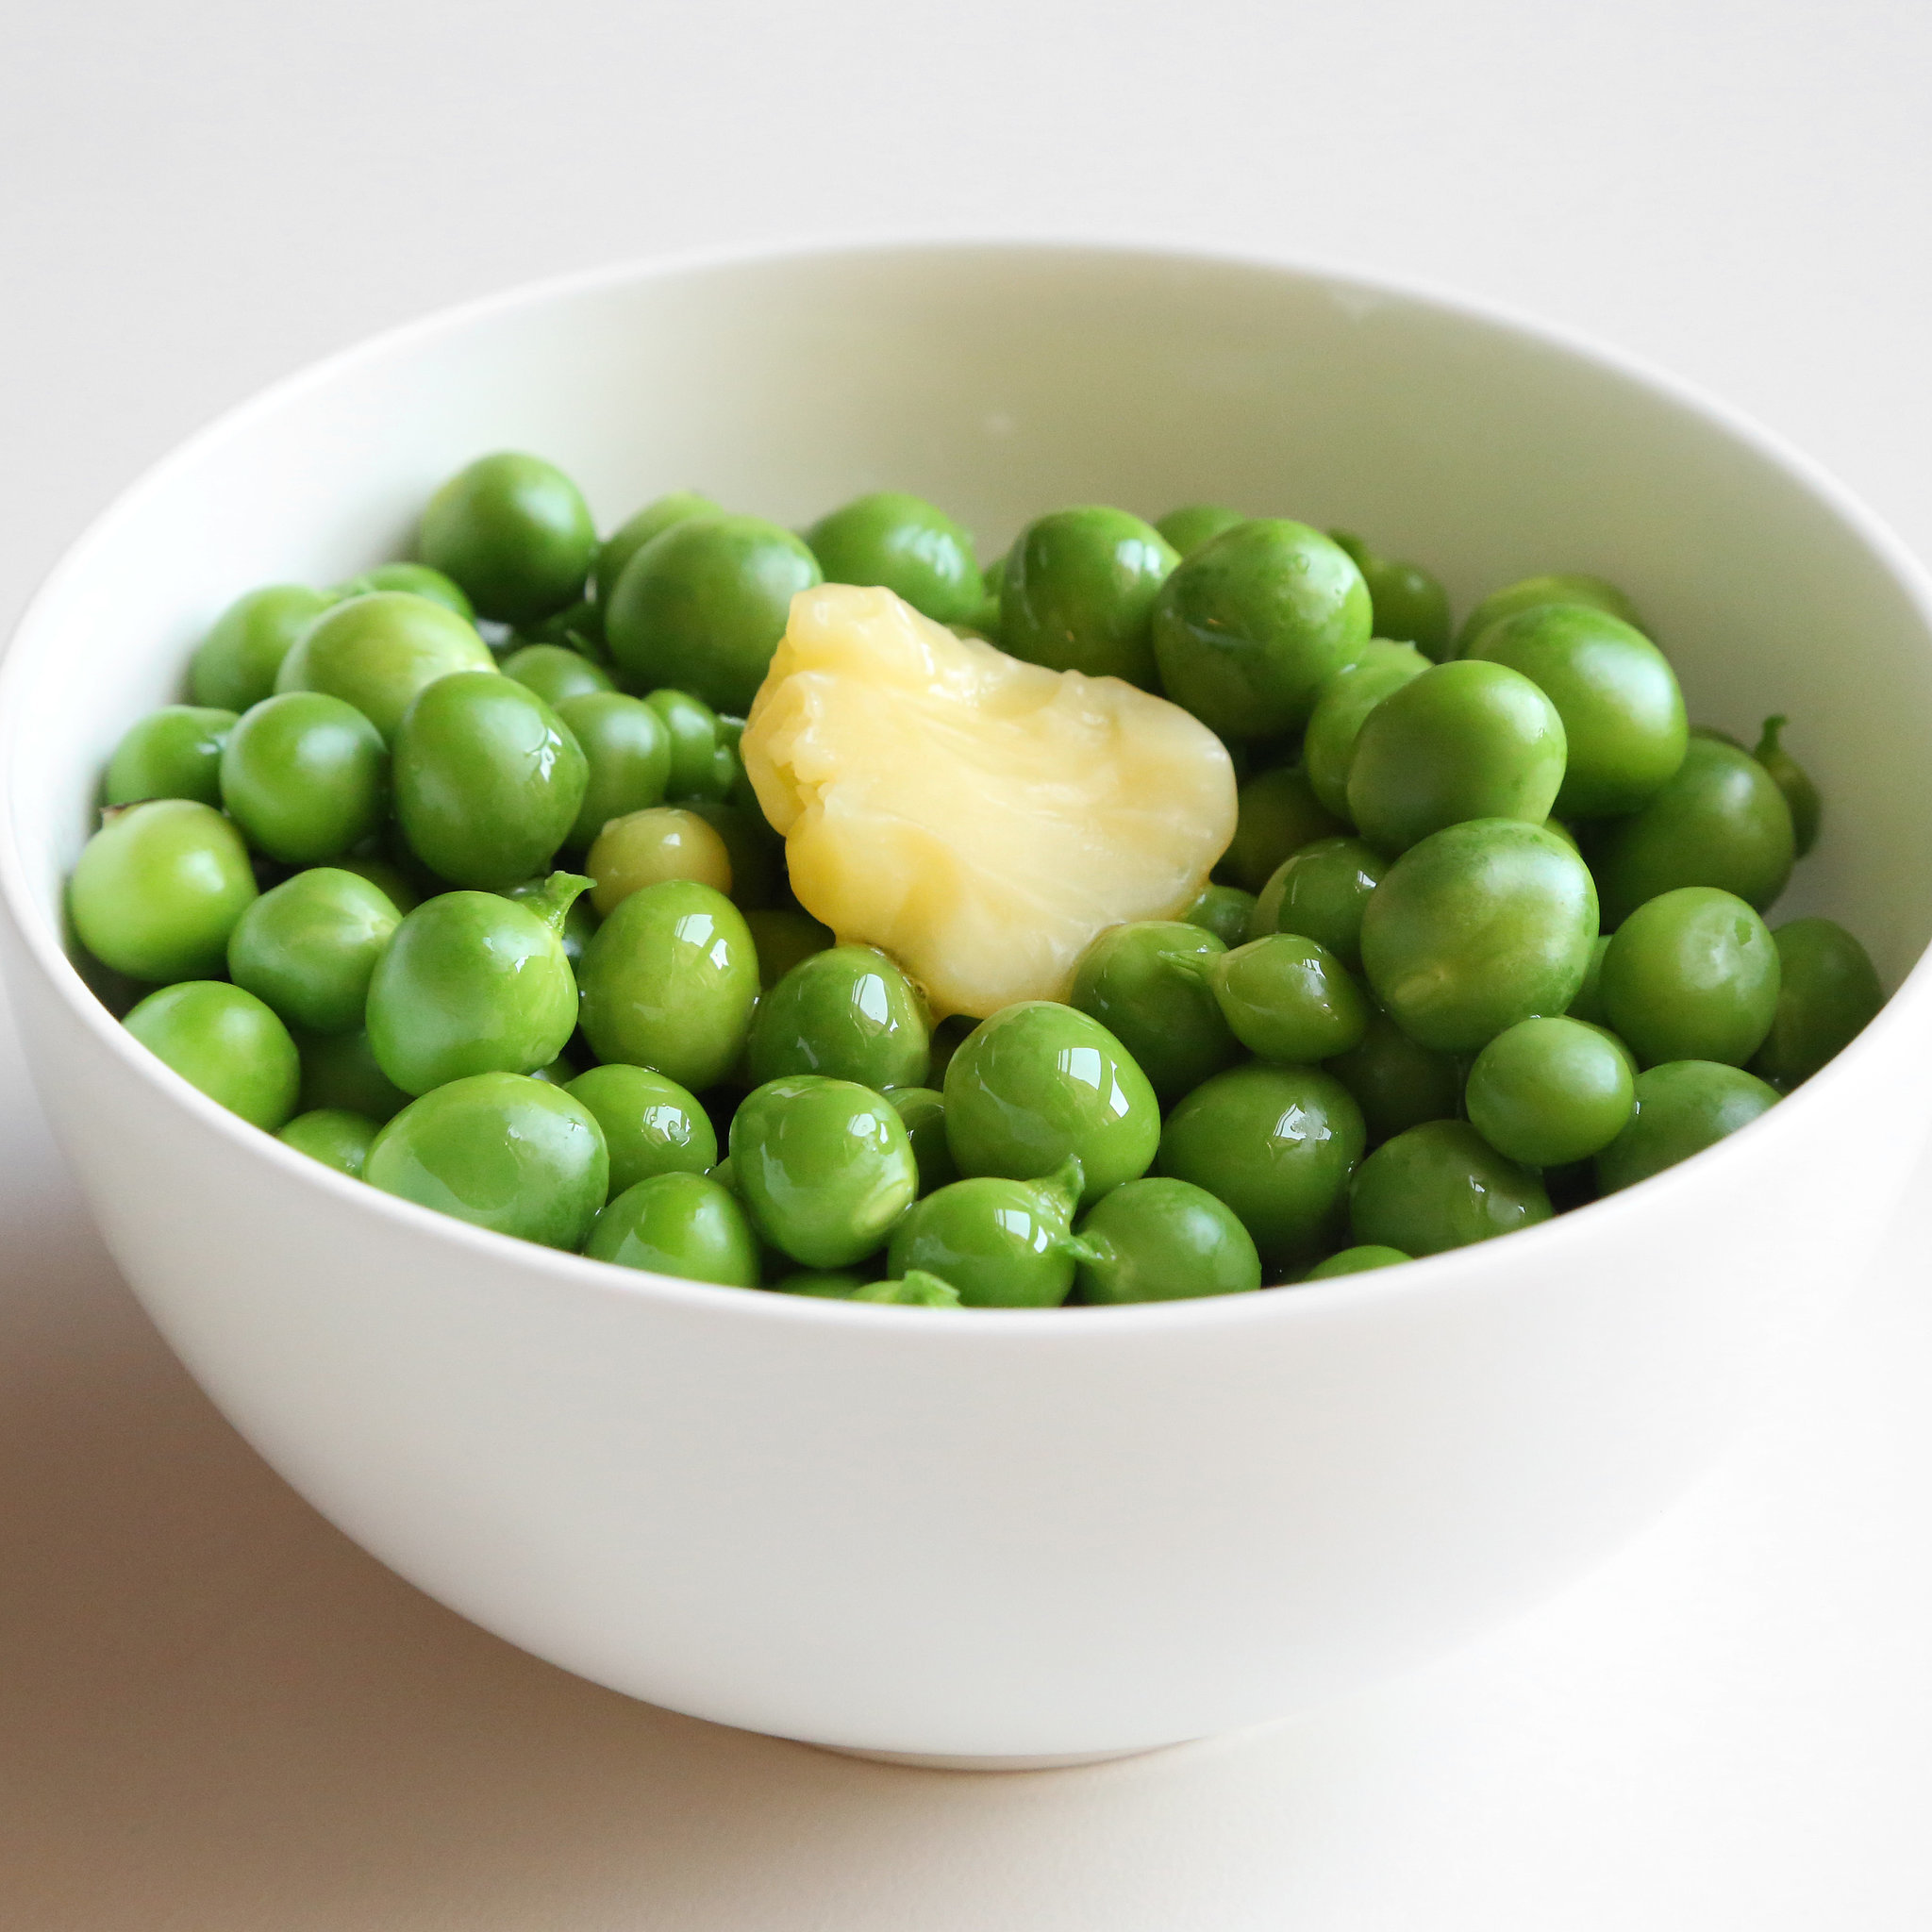boiled peas: (149, 524, 1799, 1270)
